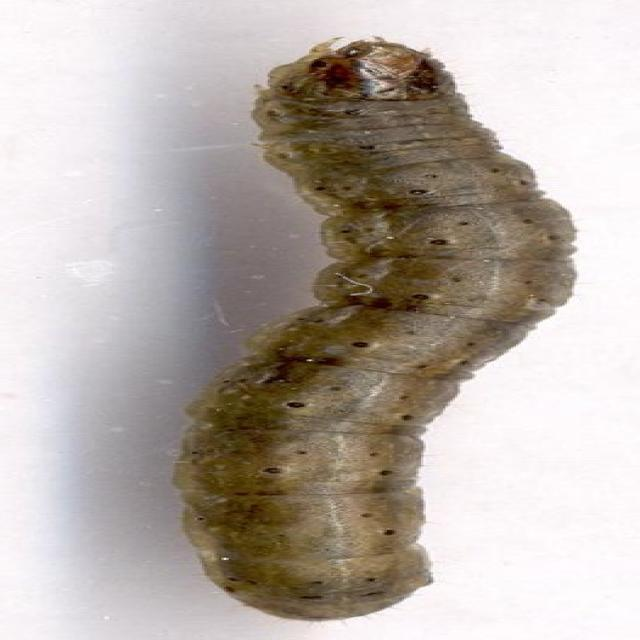black cutworm: (135, 34, 612, 626)
